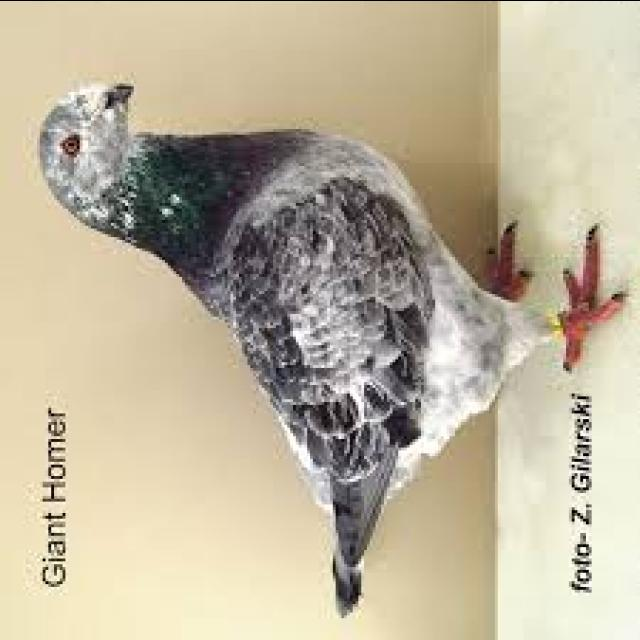pigeon: (37, 65, 611, 620)
